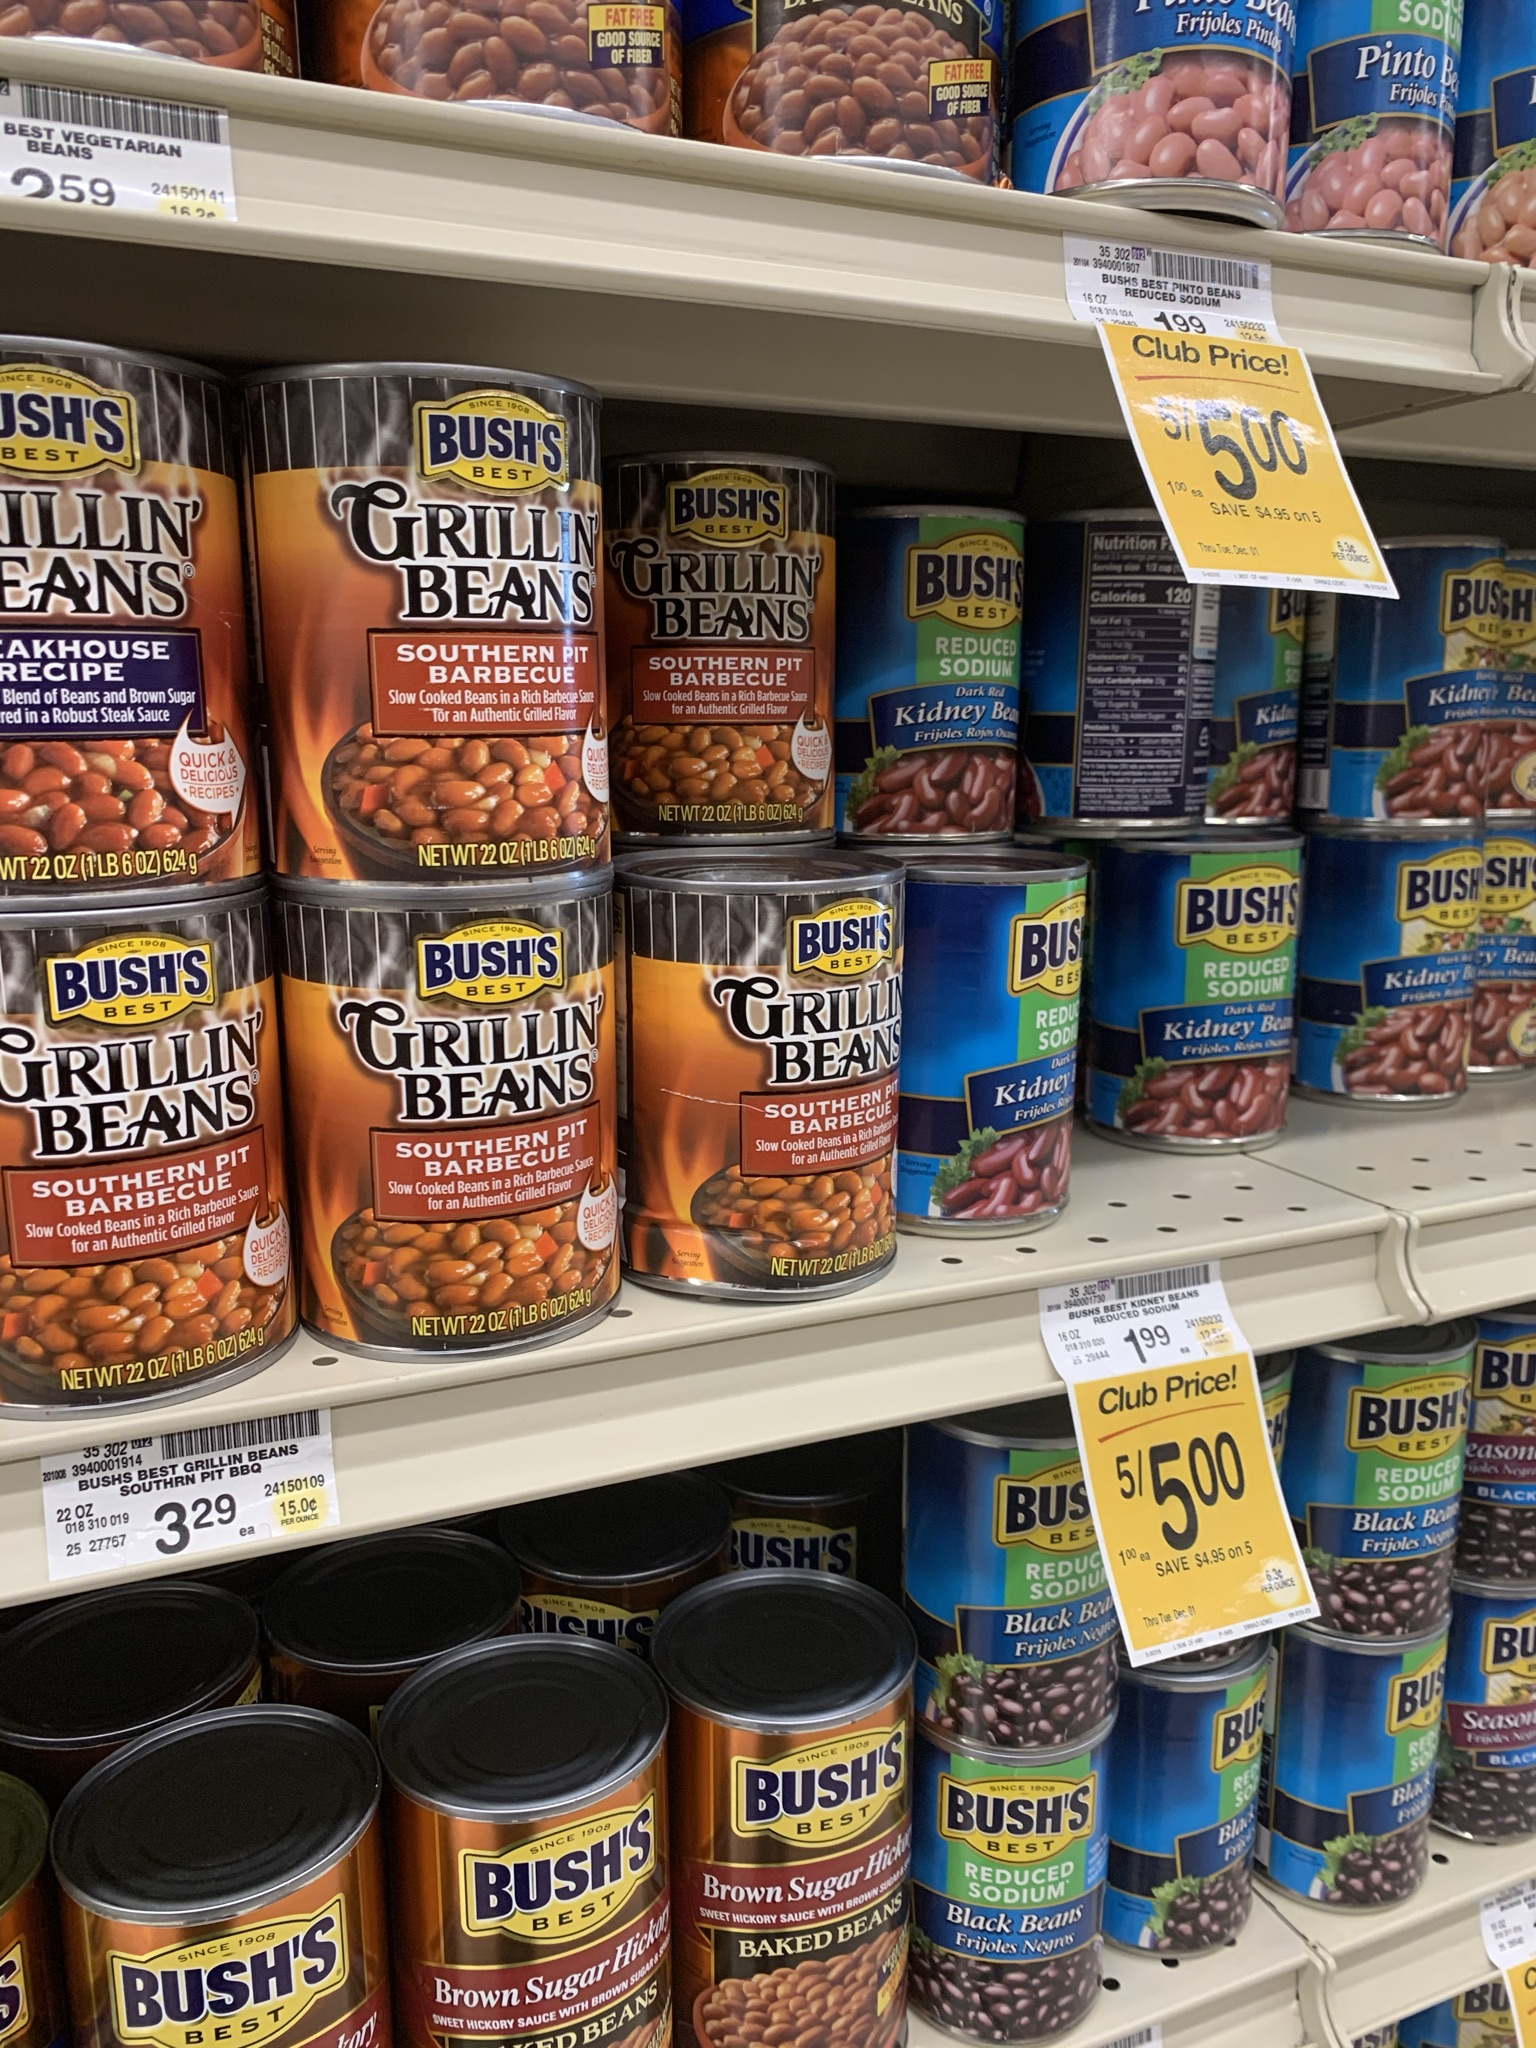can: (284, 384, 616, 874), (311, 898, 620, 1317), (2, 905, 258, 1387), (2, 393, 226, 884), (652, 885, 905, 1284), (403, 1713, 673, 2048), (694, 1655, 904, 2048), (628, 464, 833, 835), (870, 510, 1026, 839), (928, 1453, 1087, 1751), (928, 880, 1065, 1227), (1139, 855, 1284, 1150), (1050, 522, 1186, 827), (941, 1761, 1097, 2022), (1321, 1361, 1467, 1630), (1333, 835, 1473, 1101), (1373, 556, 1501, 821), (1318, 1646, 1431, 1906), (1134, 1693, 1246, 1940)
